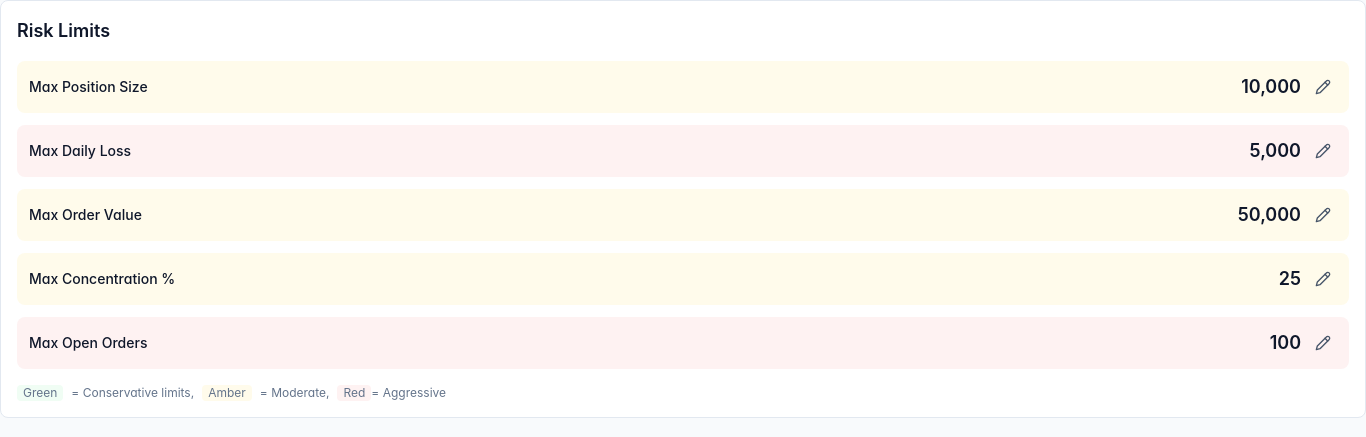
Scenario: RiskSettingsCard › enters inline edit mode when pencil icon is clicked
# Find edit button for max_position_size
Click the button named "Edit Max Position Size" at (1323, 87), box [1309,73,1337,101]
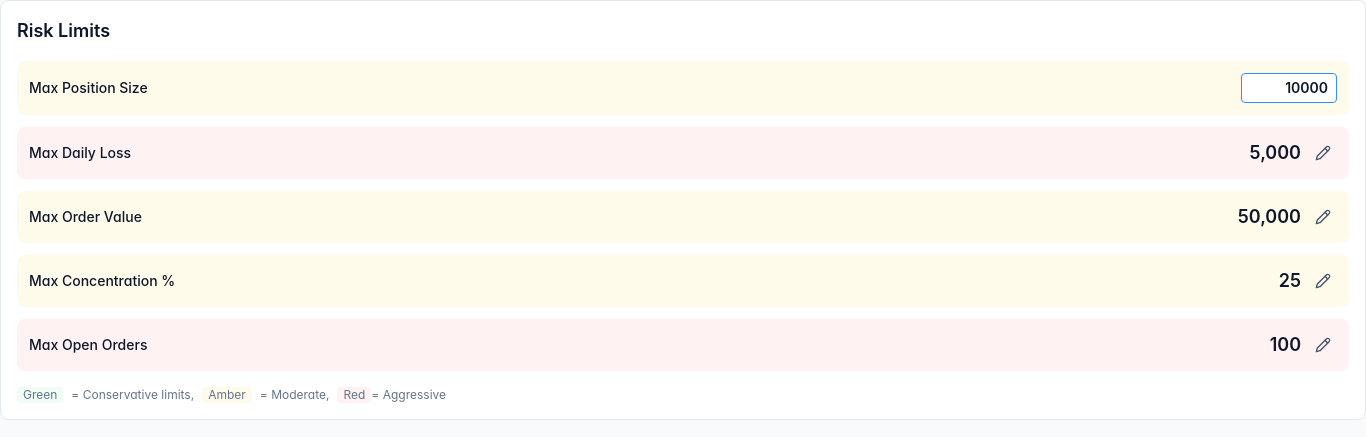
Expected: the field showing "10000" is shown, [1241,73,1337,103]
